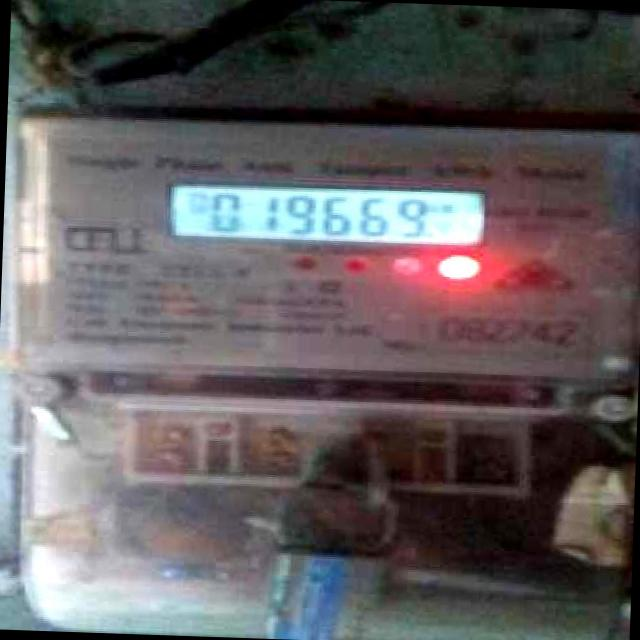LCD: (165, 178, 494, 251)
